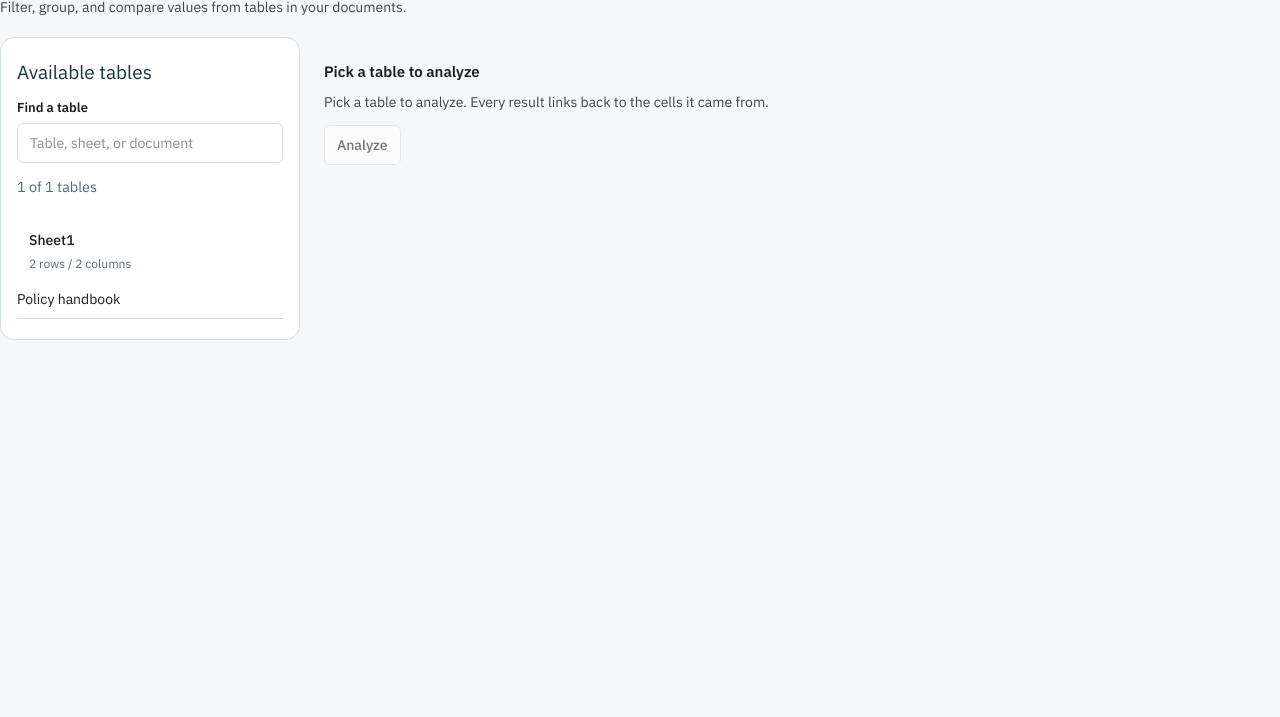
Test: TablesApp › shows empty successful rows and omits non-identifier result columns
Click the button "Sheet1 2 rows / 2 columns": (52, 240) [17, 218, 283, 284]
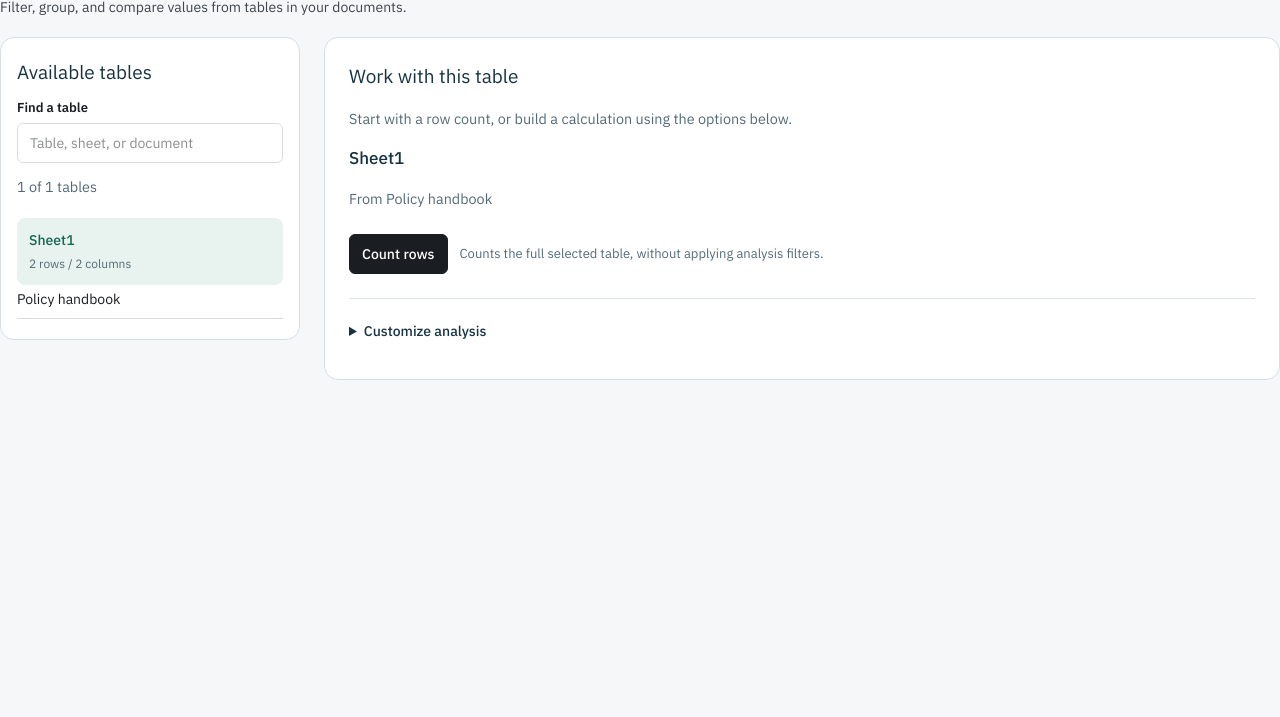
Click the heading "Customize analysis": (425, 331) [364, 322, 486, 340]
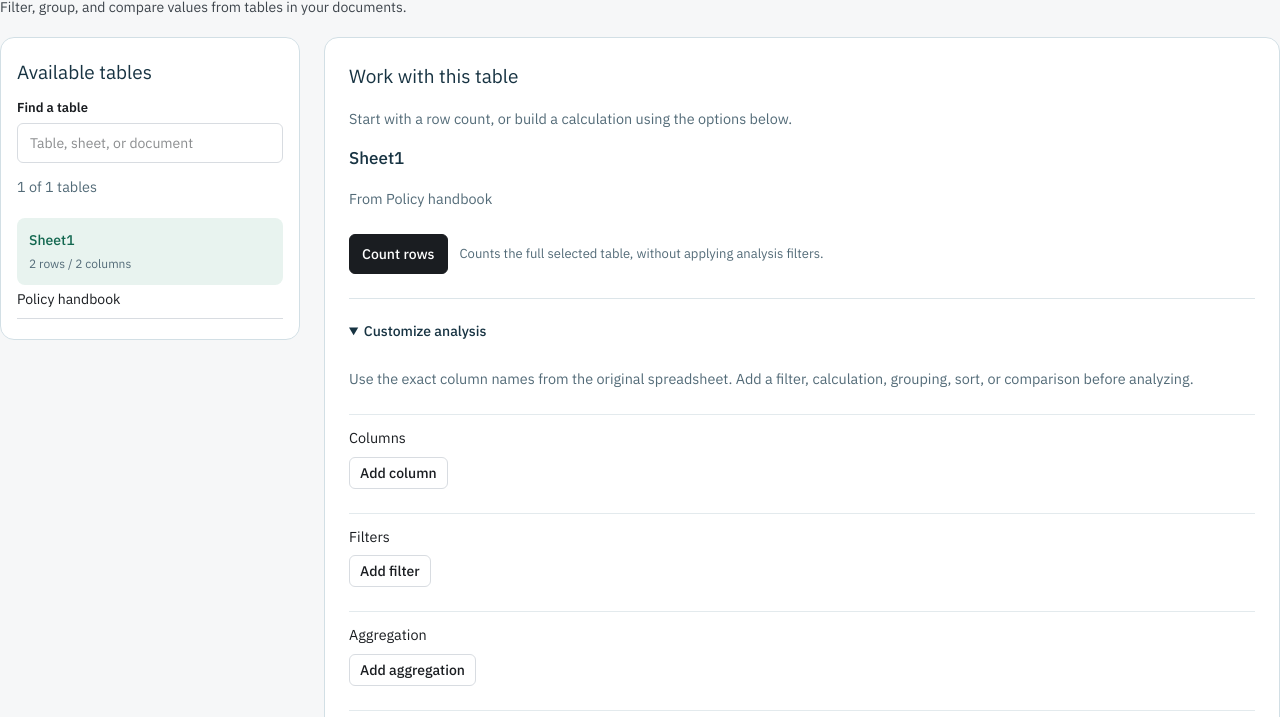
Click the button "Add filter": (390, 571) [349, 555, 431, 587]
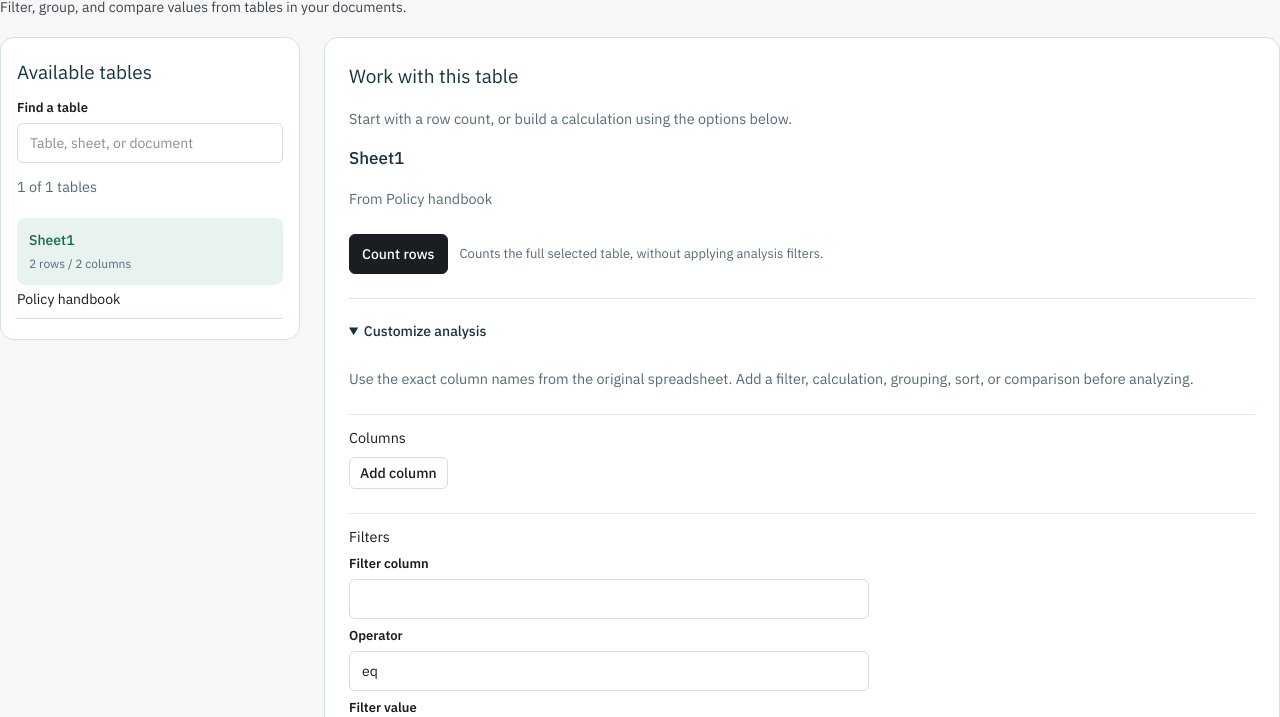
In the field labelled "Filter column": (609, 599) [349, 579, 869, 619], type "amount"
(page scrolled)
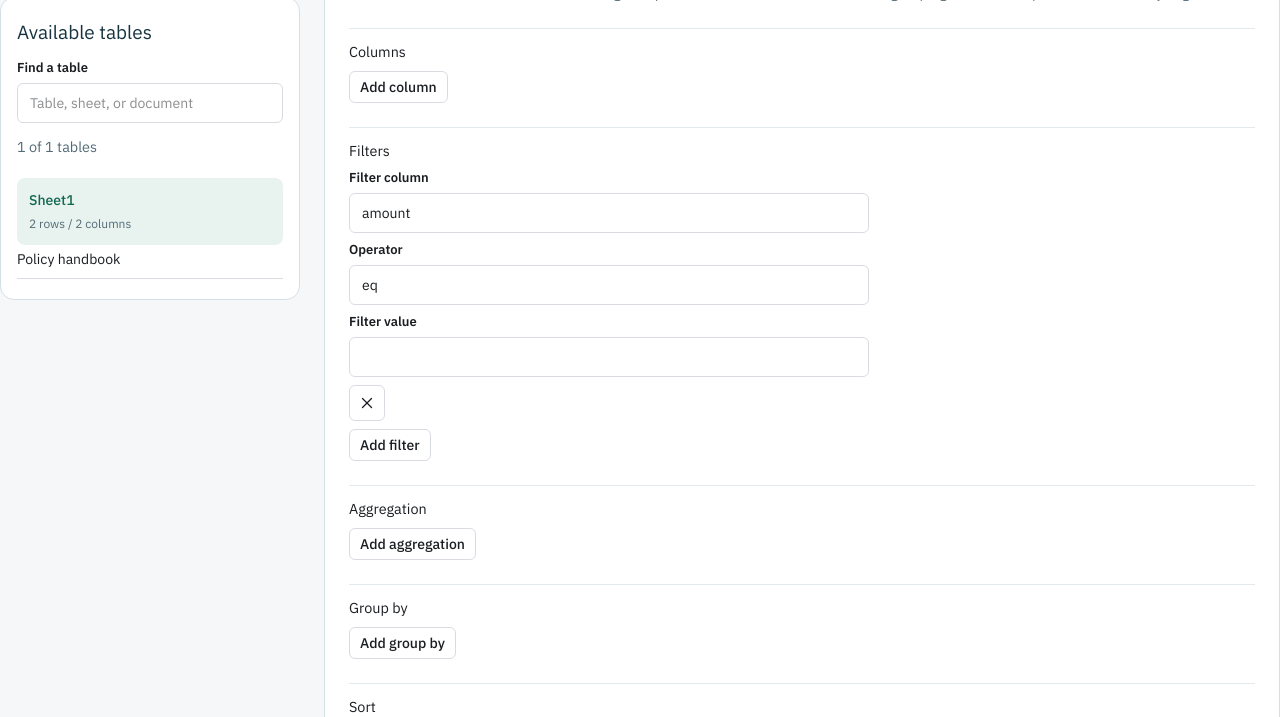
In the field labelled "Filter value": (609, 357) [349, 337, 869, 377], type "1"
(page scrolled)
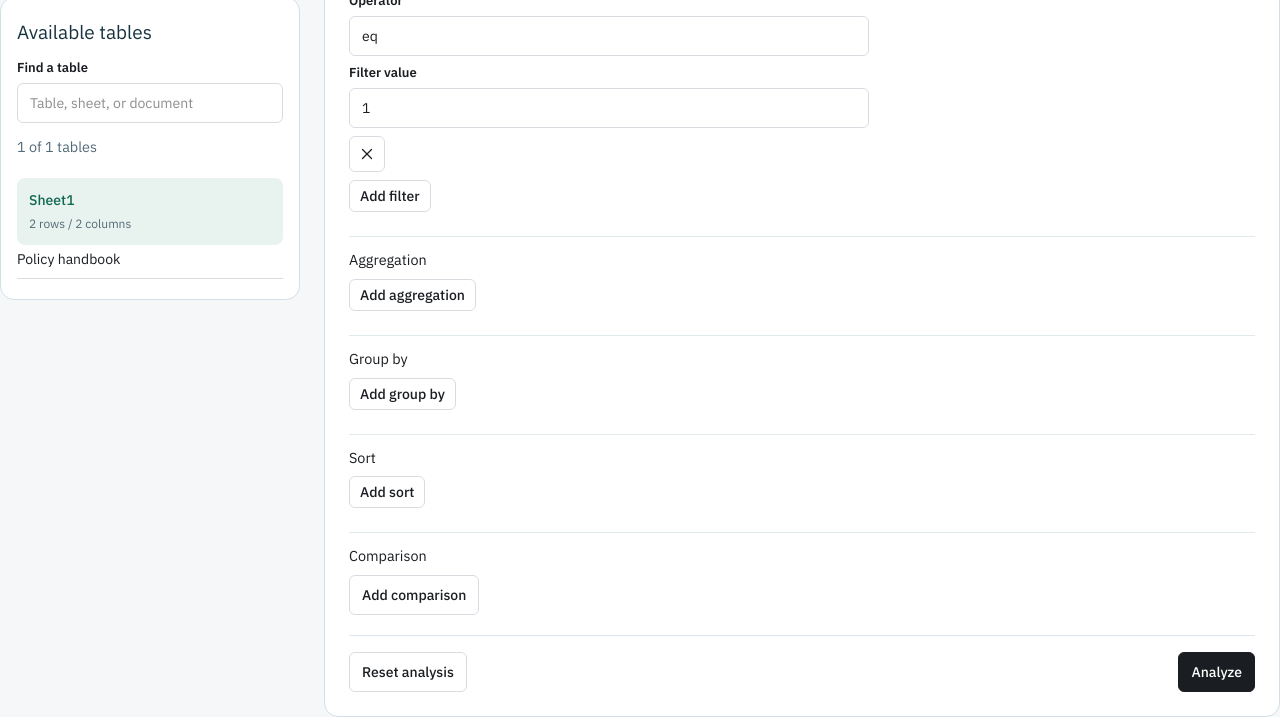
Click the button "Analyze": (1217, 672) [1178, 652, 1255, 692]
(page scrolled)
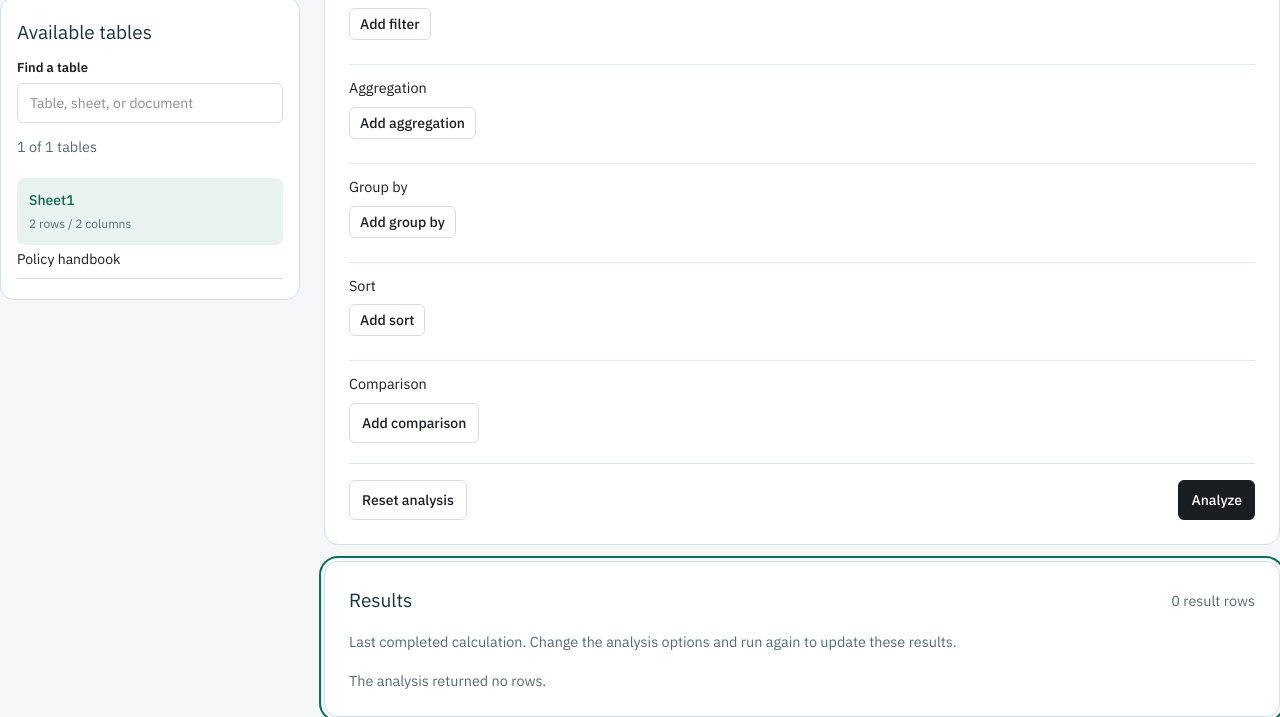
Check: the text "The analysis returned no rows." is shown, box [349, 671, 546, 690]
